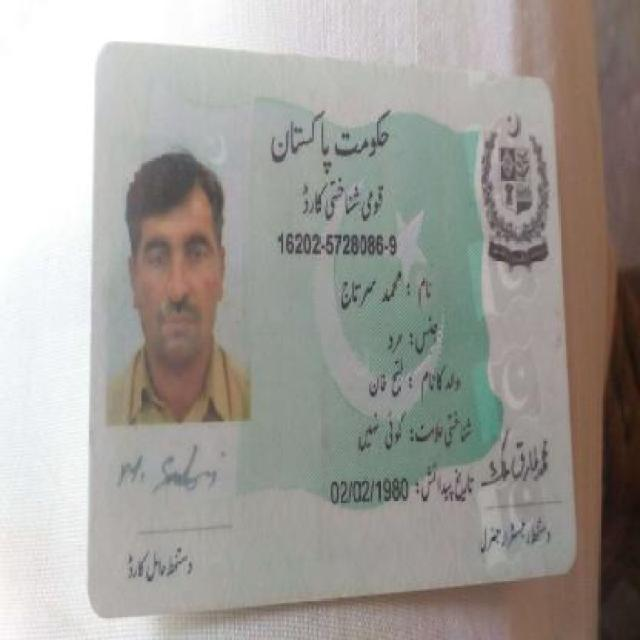Front: (91, 43, 577, 606)
